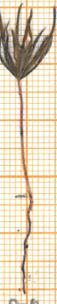flower: (0, 0, 57, 82)
root: (15, 196, 39, 297)
stem: (15, 83, 37, 197)
